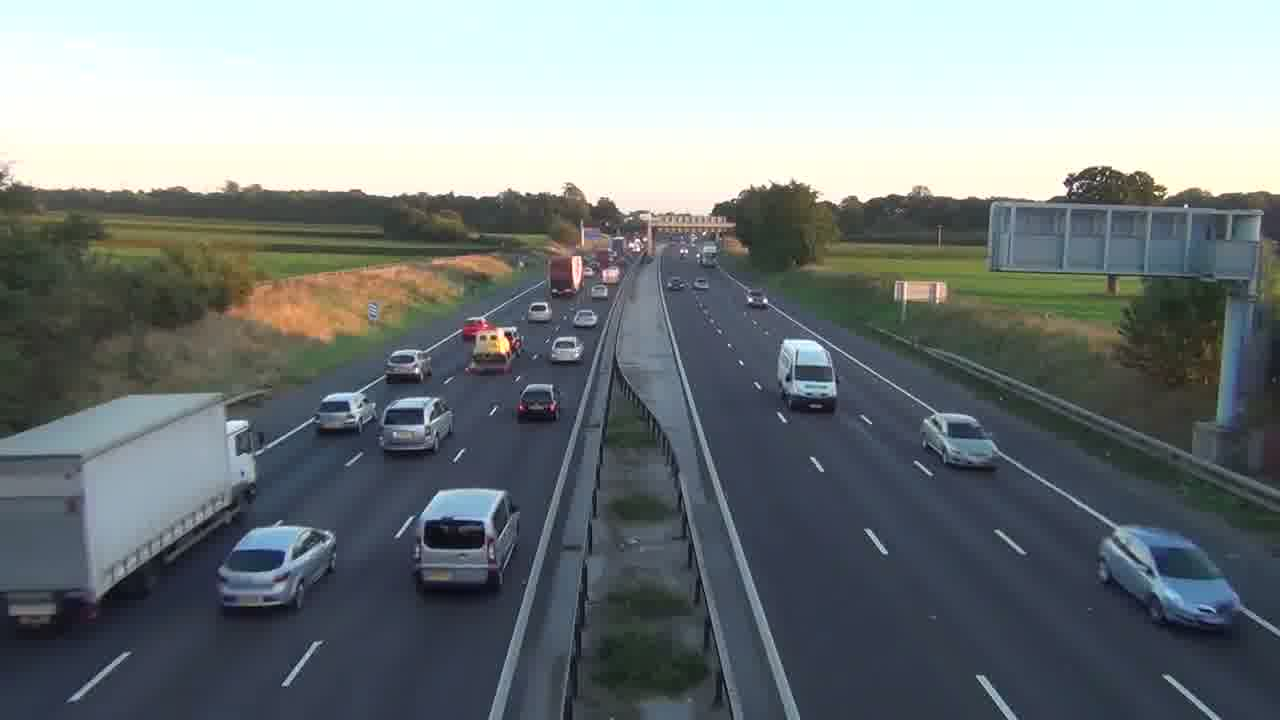car: (1096, 524, 1240, 634), (409, 487, 522, 593), (215, 522, 338, 613), (920, 411, 998, 470), (378, 395, 454, 455), (315, 389, 377, 434), (514, 383, 563, 422), (383, 348, 433, 384), (549, 335, 584, 364), (571, 308, 598, 328)
truck: (0, 392, 260, 637), (776, 337, 838, 412), (546, 254, 585, 298)
